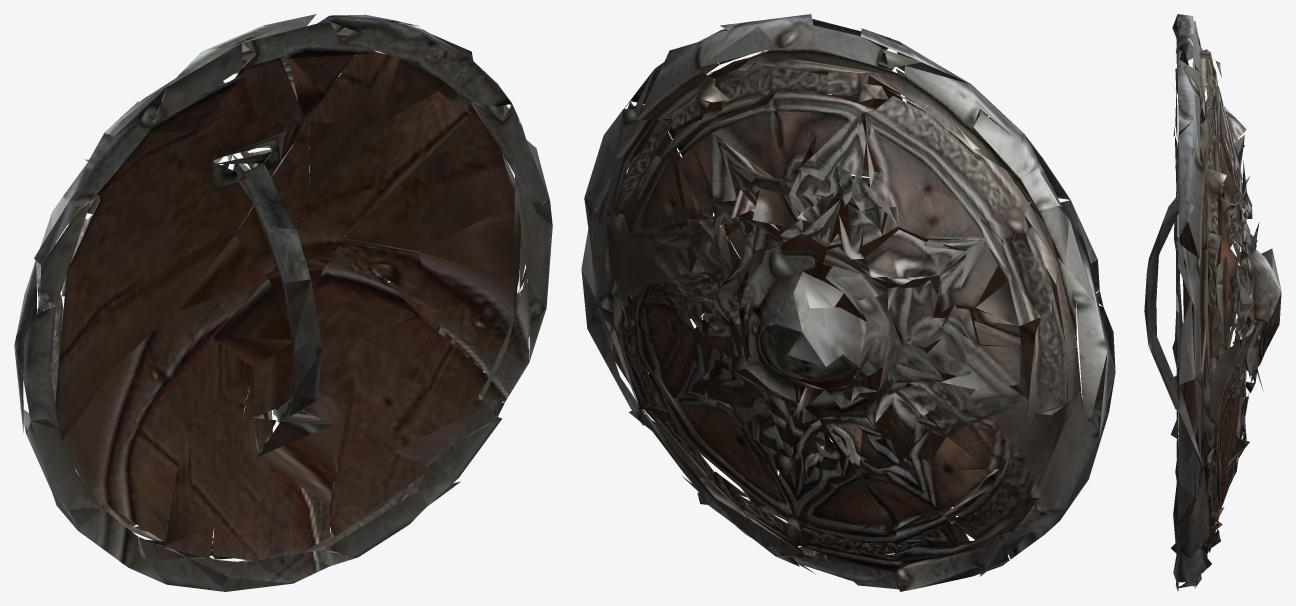
File: qalqon_dumaloq.glb
The picture shows the model from 3 angles, left to right: view 1: azimuth 30°, elevation 25°; view 2: azimuth 150°, elevation 25°; view 3: azimuth 270°, elevation 25°; orthographic projection. The views are drawn at different scales.
Visible parts, largest first — view 1: qalqon_dumaloq; view 2: qalqon_dumaloq; view 3: qalqon_dumaloq.
Part boxes in pixels (x1,y1,x2,y2): qalqon_dumaloq: (14, 14, 552, 591); qalqon_dumaloq: (581, 14, 1115, 591); qalqon_dumaloq: (1144, 14, 1281, 590).
Size of the model in its own units: 0.5977 by 0.6011 by 0.1422.
1 material, 1 textured.
